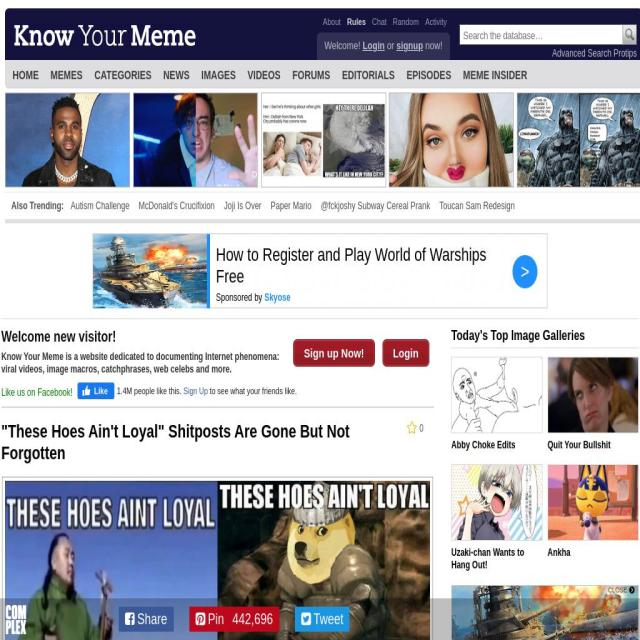button: (5, 92, 130, 188), (133, 92, 258, 188), (261, 92, 386, 188), (389, 92, 514, 188), (517, 92, 640, 188), (189, 606, 279, 632), (293, 339, 376, 367), (118, 606, 174, 632), (294, 606, 350, 632), (382, 339, 429, 367), (0, 598, 31, 640), (407, 421, 424, 434)
field: (460, 24, 622, 45)
heading: (2, 421, 350, 463), (1, 329, 434, 344), (451, 329, 639, 343), (452, 547, 524, 571), (11, 196, 64, 216), (451, 439, 516, 451), (548, 439, 610, 451), (548, 547, 570, 558)
iframe: (0, 0, 640, 640), (92, 234, 548, 308), (451, 585, 639, 640), (77, 382, 375, 406)
image: (4, 480, 429, 640), (5, 93, 130, 187), (133, 93, 258, 187), (261, 93, 386, 187), (389, 93, 514, 187), (517, 93, 640, 186), (451, 356, 541, 432), (548, 356, 638, 432), (451, 464, 541, 539), (548, 464, 638, 539), (11, 23, 199, 47), (4, 604, 27, 634), (622, 24, 636, 44), (629, 582, 635, 598)
link: (320, 200, 430, 212), (552, 48, 637, 59), (462, 68, 528, 82), (138, 200, 215, 212), (439, 200, 515, 212), (94, 68, 152, 82), (342, 68, 396, 82), (70, 200, 130, 212), (406, 68, 452, 82), (292, 68, 331, 82), (270, 200, 312, 212), (201, 68, 236, 82), (248, 68, 282, 82), (224, 200, 262, 212), (50, 68, 82, 82), (163, 68, 190, 82), (396, 39, 424, 52), (12, 68, 38, 82), (362, 39, 386, 52), (392, 18, 420, 27), (425, 18, 447, 27), (347, 16, 366, 26), (322, 18, 342, 27), (372, 18, 387, 27)
text: (2, 351, 280, 375), (1, 382, 73, 398), (227, 611, 273, 627), (134, 611, 168, 627), (310, 611, 343, 627), (323, 39, 362, 52), (205, 611, 228, 627), (422, 39, 442, 52), (608, 586, 628, 594), (384, 39, 396, 52), (419, 421, 424, 432)
